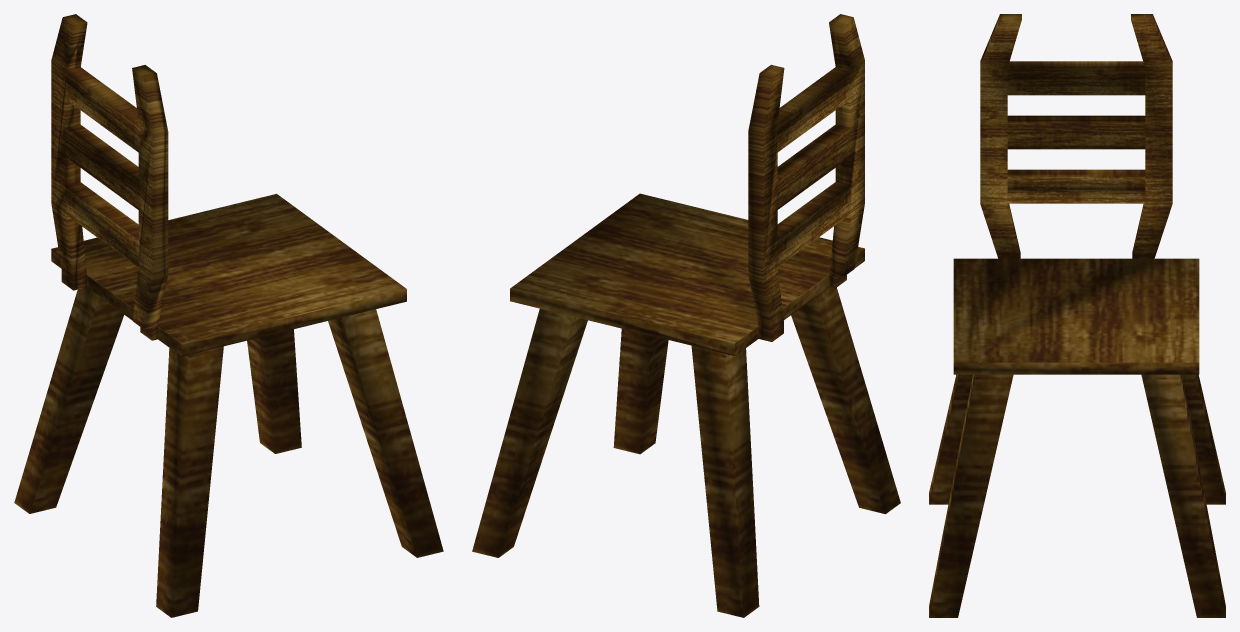
Rendered from chair.glb.
3 renders of one model, left to right at view 1: azimuth 30°, elevation 25°; view 2: azimuth 150°, elevation 25°; view 3: azimuth 270°, elevation 25°, orthographic. The views are drawn at different scales.
Visible parts, largest first — view 1: Cube, Cube.001; view 2: Cube, Cube.001; view 3: Cube, Cube.001.
Boxes of the visible parts, left/top/right/bottom form: Cube: left=51, top=14, right=406, bottom=356; Cube.001: left=14, top=287, right=443, bottom=617; Cube: left=510, top=14, right=864, bottom=355; Cube.001: left=472, top=287, right=900, bottom=617; Cube: left=953, top=14, right=1199, bottom=374; Cube.001: left=929, top=374, right=1225, bottom=617.
Bounding box in the file's own units: 0.4821 × 0.8656 × 0.4821.
Materials: 2 (2 with a texture image).
